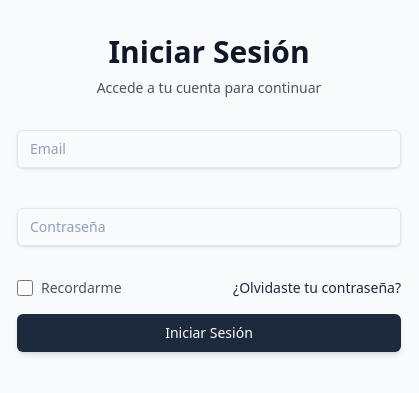
Test: LoginForm Component › Form validation (RED PHASE - Not implemented) › debe mostrar error si password es menor a 8 caracteres
Note: Usuario escribe password muy corto y submitea
In the password field with placeholder "Contraseña": (209, 227) [17,208,401,246], type "abc123"
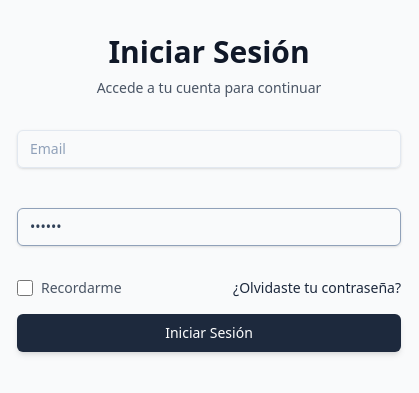
Click the button "Iniciar Sesión": click(209, 333) [17,314,401,352]
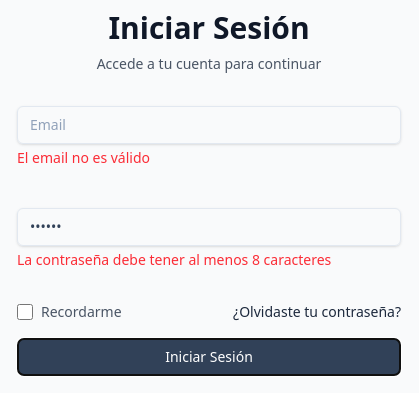
Expected: the text "La contraseña debe tener al menos 8 caracteres" is shown, [17,250,331,269]
